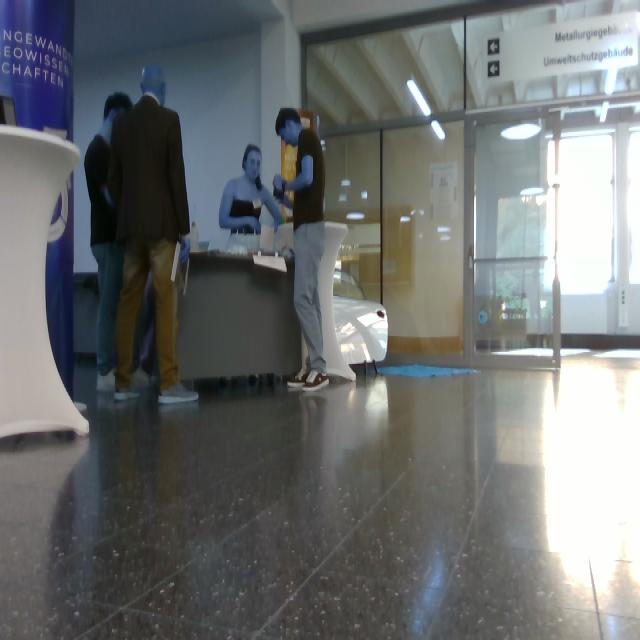desk: (178, 253, 302, 380), (77, 274, 98, 369)
door: (304, 1, 640, 373)
light bulb: (407, 80, 432, 117), (432, 120, 445, 141)
person: (109, 66, 197, 401), (275, 109, 329, 389), (85, 93, 132, 392), (220, 145, 279, 252), (134, 372, 148, 389)
table: (1, 126, 89, 438), (319, 224, 355, 381)
tiled floor: (1, 358, 640, 640)
